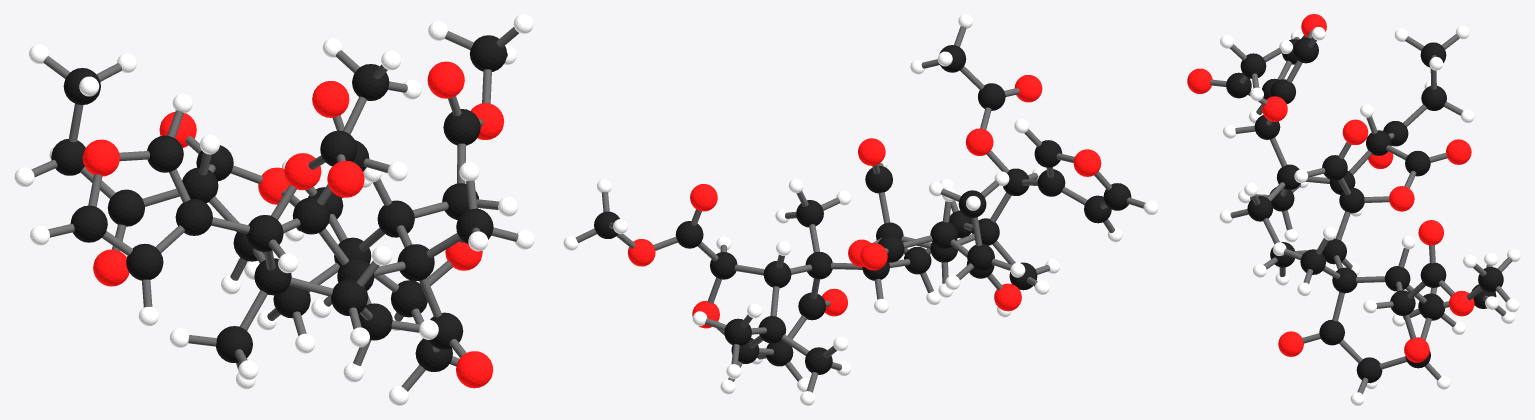
The model's file is molecule.glb.
The picture shows the model from 3 angles, left to right: view 1: azimuth 30°, elevation 25°; view 2: azimuth 150°, elevation 25°; view 3: azimuth 270°, elevation 25°; orthographic projection. The views are drawn at different scales.
Parts seen in each view (by area): view 1: geometry_21, geometry_36, geometry_15, geometry_10, geometry_40, geometry_2, geometry_39, geometry_41, geometry_38, geometry_3, geometry_37, geometry_20 (+28 smaller); view 2: geometry_6, geometry_10, geometry_21, geometry_33, geometry_40, geometry_3, geometry_34, geometry_20, geometry_36, geometry_22, geometry_39, geometry_4 (+15 smaller); view 3: geometry_7, geometry_10, geometry_21, geometry_15, geometry_18, geometry_6, geometry_14, geometry_36, geometry_33, geometry_9, geometry_5, geometry_20 (+25 smaller).
Part boxes in pixels (bbox=[...]): geometry_21: bbox=[427, 61, 464, 98]; geometry_36: bbox=[327, 160, 364, 197]; geometry_15: bbox=[456, 351, 493, 388]; geometry_10: bbox=[312, 81, 349, 117]; geometry_40: bbox=[82, 139, 119, 176]; geometry_2: bbox=[107, 189, 144, 226]; geometry_39: bbox=[70, 205, 107, 242]; geometry_41: bbox=[147, 135, 183, 172]; geometry_38: bbox=[126, 244, 163, 280]; geometry_3: bbox=[93, 249, 129, 286]; geometry_37: bbox=[175, 199, 212, 235]; geometry_20: bbox=[443, 109, 480, 145]; geometry_6: bbox=[860, 243, 887, 270]; geometry_10: bbox=[858, 138, 885, 165]; geometry_21: bbox=[690, 184, 717, 211]; geometry_33: bbox=[965, 128, 993, 155]; geometry_40: bbox=[1073, 149, 1101, 176]; geometry_3: bbox=[994, 283, 1021, 311]; geometry_34: bbox=[978, 83, 1005, 110]; geometry_20: bbox=[675, 221, 703, 248]; geometry_36: bbox=[1014, 75, 1042, 102]; geometry_22: bbox=[627, 239, 655, 266]; geometry_39: bbox=[1103, 183, 1131, 210]; geometry_4: bbox=[930, 221, 957, 248]; geometry_7: bbox=[1389, 186, 1414, 211]; geometry_10: bbox=[1342, 119, 1368, 144]; geometry_21: bbox=[1418, 220, 1443, 245]; geometry_15: bbox=[1278, 331, 1303, 356]; geometry_18: bbox=[1404, 337, 1429, 362]; geometry_6: bbox=[1446, 139, 1471, 164]; geometry_14: bbox=[1319, 320, 1344, 345]; geometry_36: bbox=[1187, 68, 1212, 93]; geometry_33: bbox=[1262, 96, 1287, 121]; geometry_9: bbox=[1322, 155, 1347, 180]; geometry_5: bbox=[1405, 150, 1430, 176]; geometry_20: bbox=[1420, 262, 1446, 287].
Bounding box in the file's own units: 0.257 × 0.1755 × 0.1683.
